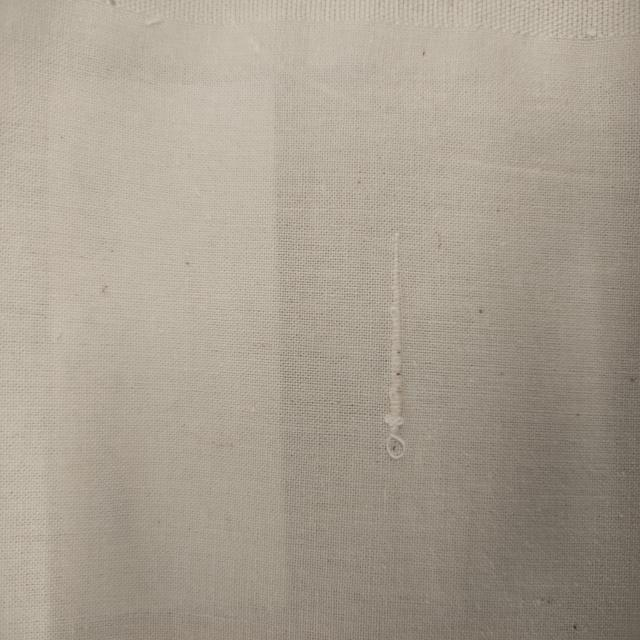stains: (354, 178, 418, 498)
